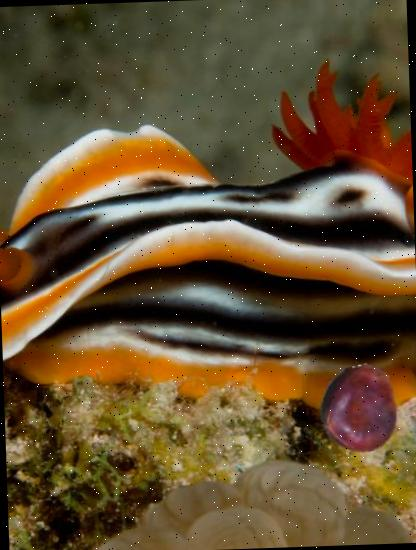Chestnut: (314, 366, 404, 457)
